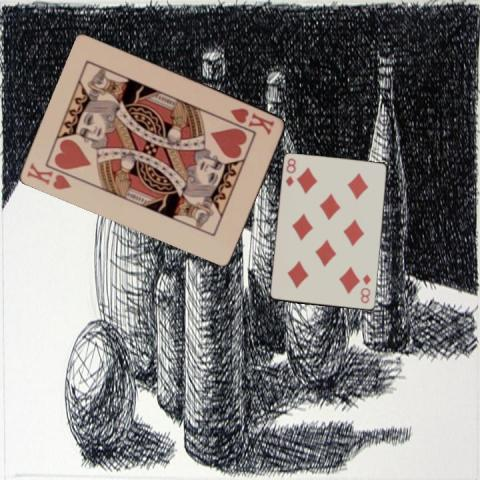8d: (358, 271, 373, 305), (284, 155, 298, 188)
Kh: (24, 160, 73, 192), (227, 105, 276, 136)
